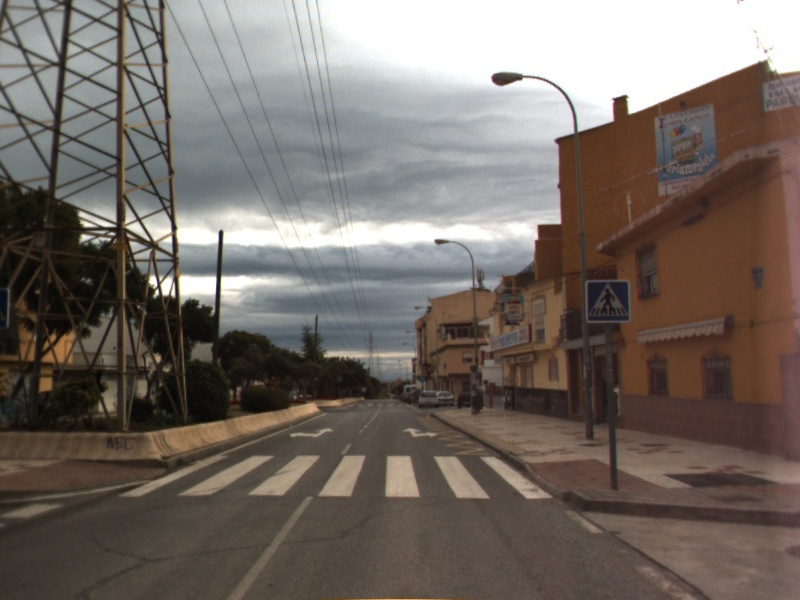STRAIGHT_LEFT: (287, 425, 335, 440)
STRAIGHT_RIGHT: (401, 425, 440, 439)
